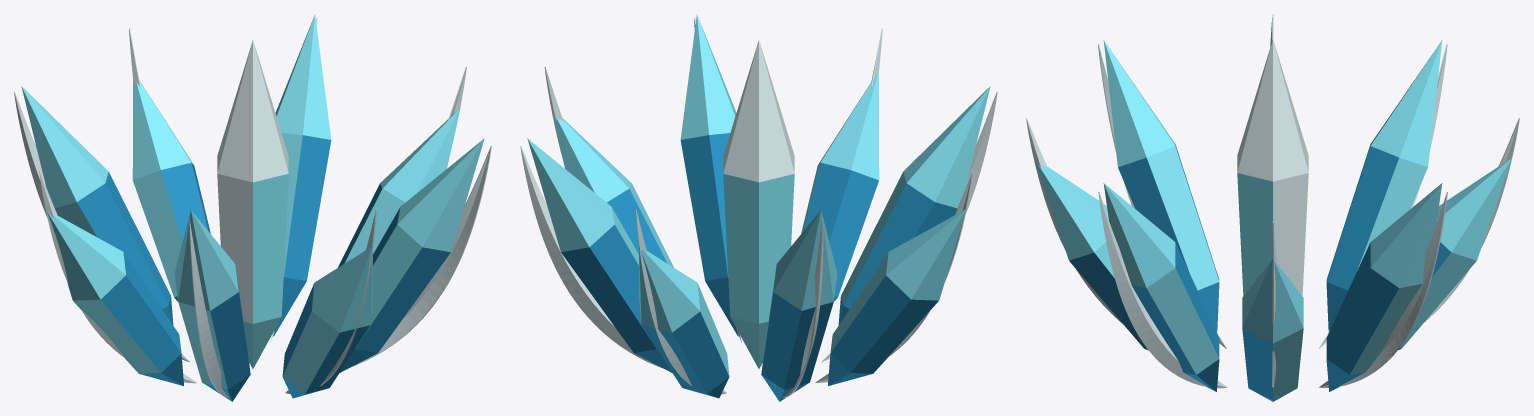
The model's file is VFX_43_GeloLotoGlaciale.fbx.
The picture shows the model from 3 angles, left to right: view 1: azimuth 30°, elevation 25°; view 2: azimuth 150°, elevation 25°; view 3: azimuth 270°, elevation 25°; orthographic projection.
Parts seen in each view (by area): view 1: VFX_43_GeloLotoGlaciale; view 2: VFX_43_GeloLotoGlaciale; view 3: VFX_43_GeloLotoGlaciale.
Part boxes in pixels (x1=…): VFX_43_GeloLotoGlaciale: x1=14, y1=15, x2=491, y2=401; VFX_43_GeloLotoGlaciale: x1=520, y1=15, x2=997, y2=401; VFX_43_GeloLotoGlaciale: x1=1026, y1=14, x2=1519, y2=401.
Bounding box in the file's own units: 341 × 251 × 341.
1 material, 1 textured.
